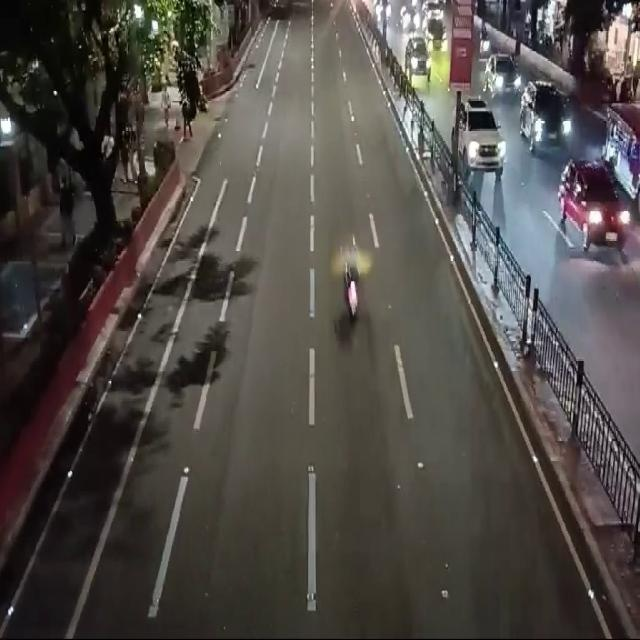car: (546, 154, 634, 272), (514, 74, 578, 160), (451, 95, 507, 184), (395, 35, 439, 90), (483, 45, 521, 108)
motorcycle: (331, 243, 366, 334)
